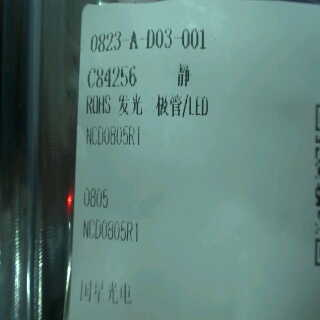LED: (116, 88, 213, 118)
